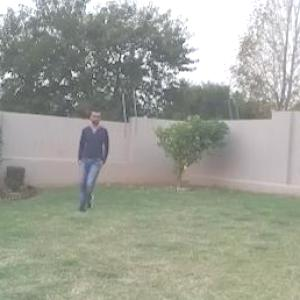follow: (74, 104, 110, 218)
